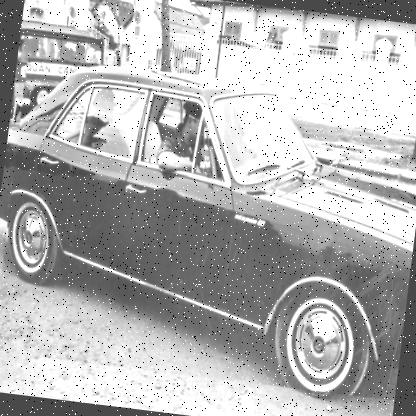Car: (0, 54, 415, 402)
